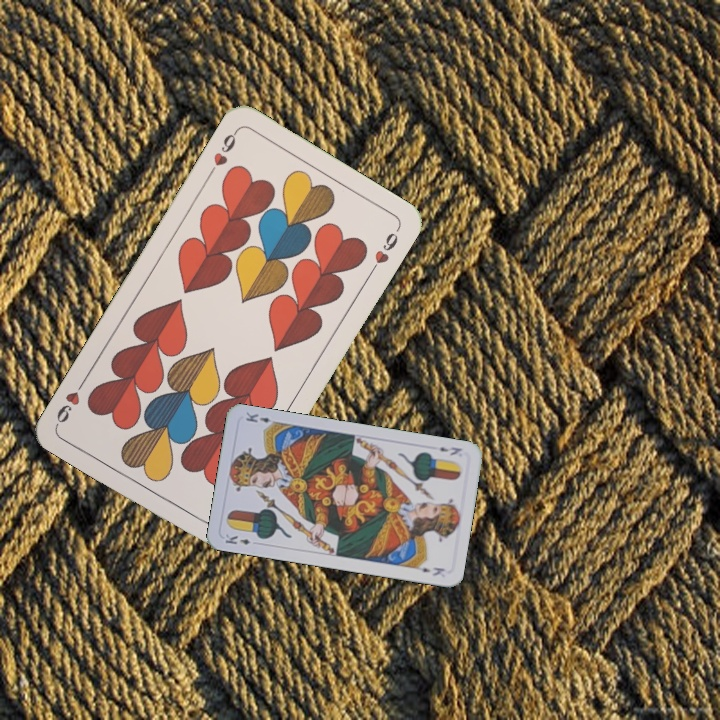EK: (221, 530, 253, 547), (435, 443, 464, 458)
H9: (204, 126, 241, 179)
